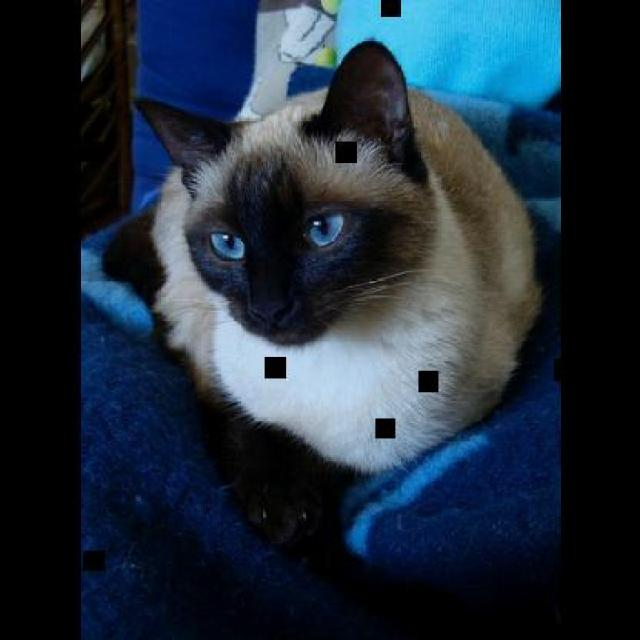unauthorized: (100, 37, 545, 549)
